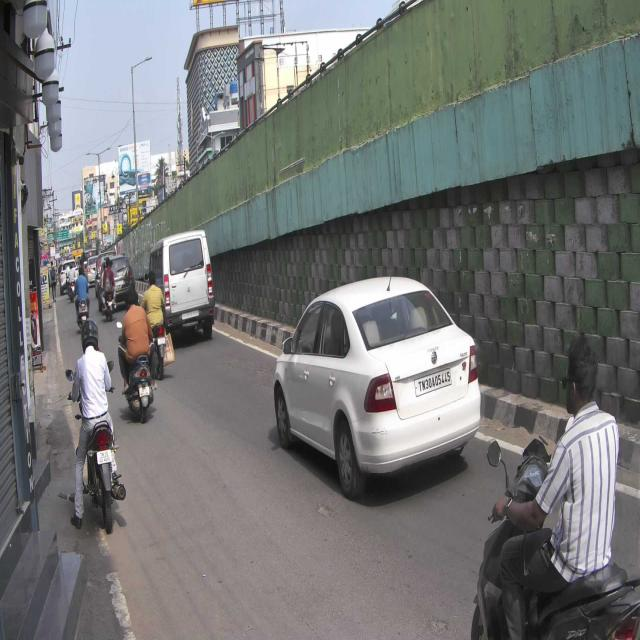single_rider: (470, 337, 640, 640), (66, 317, 124, 530)
